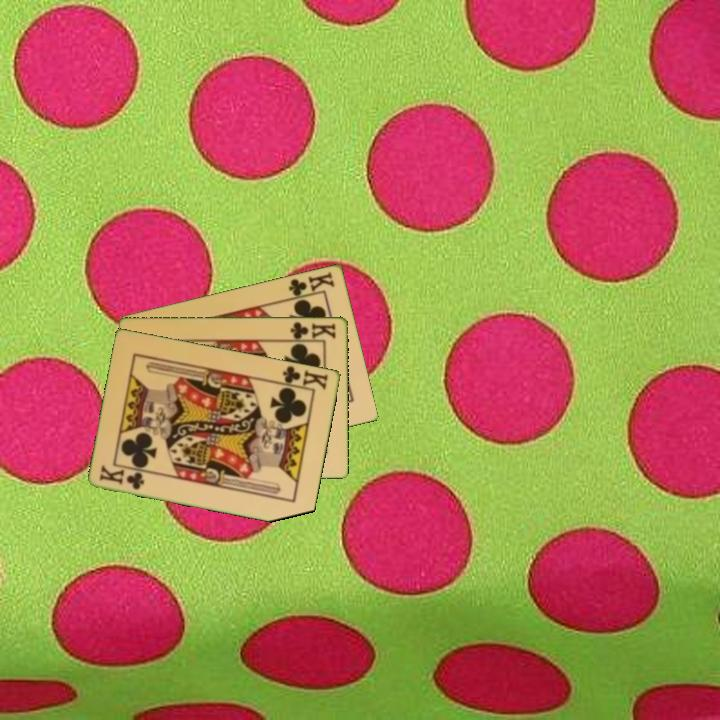Kc: (285, 268, 337, 301), (276, 362, 331, 392), (96, 462, 148, 492), (285, 318, 339, 342)
